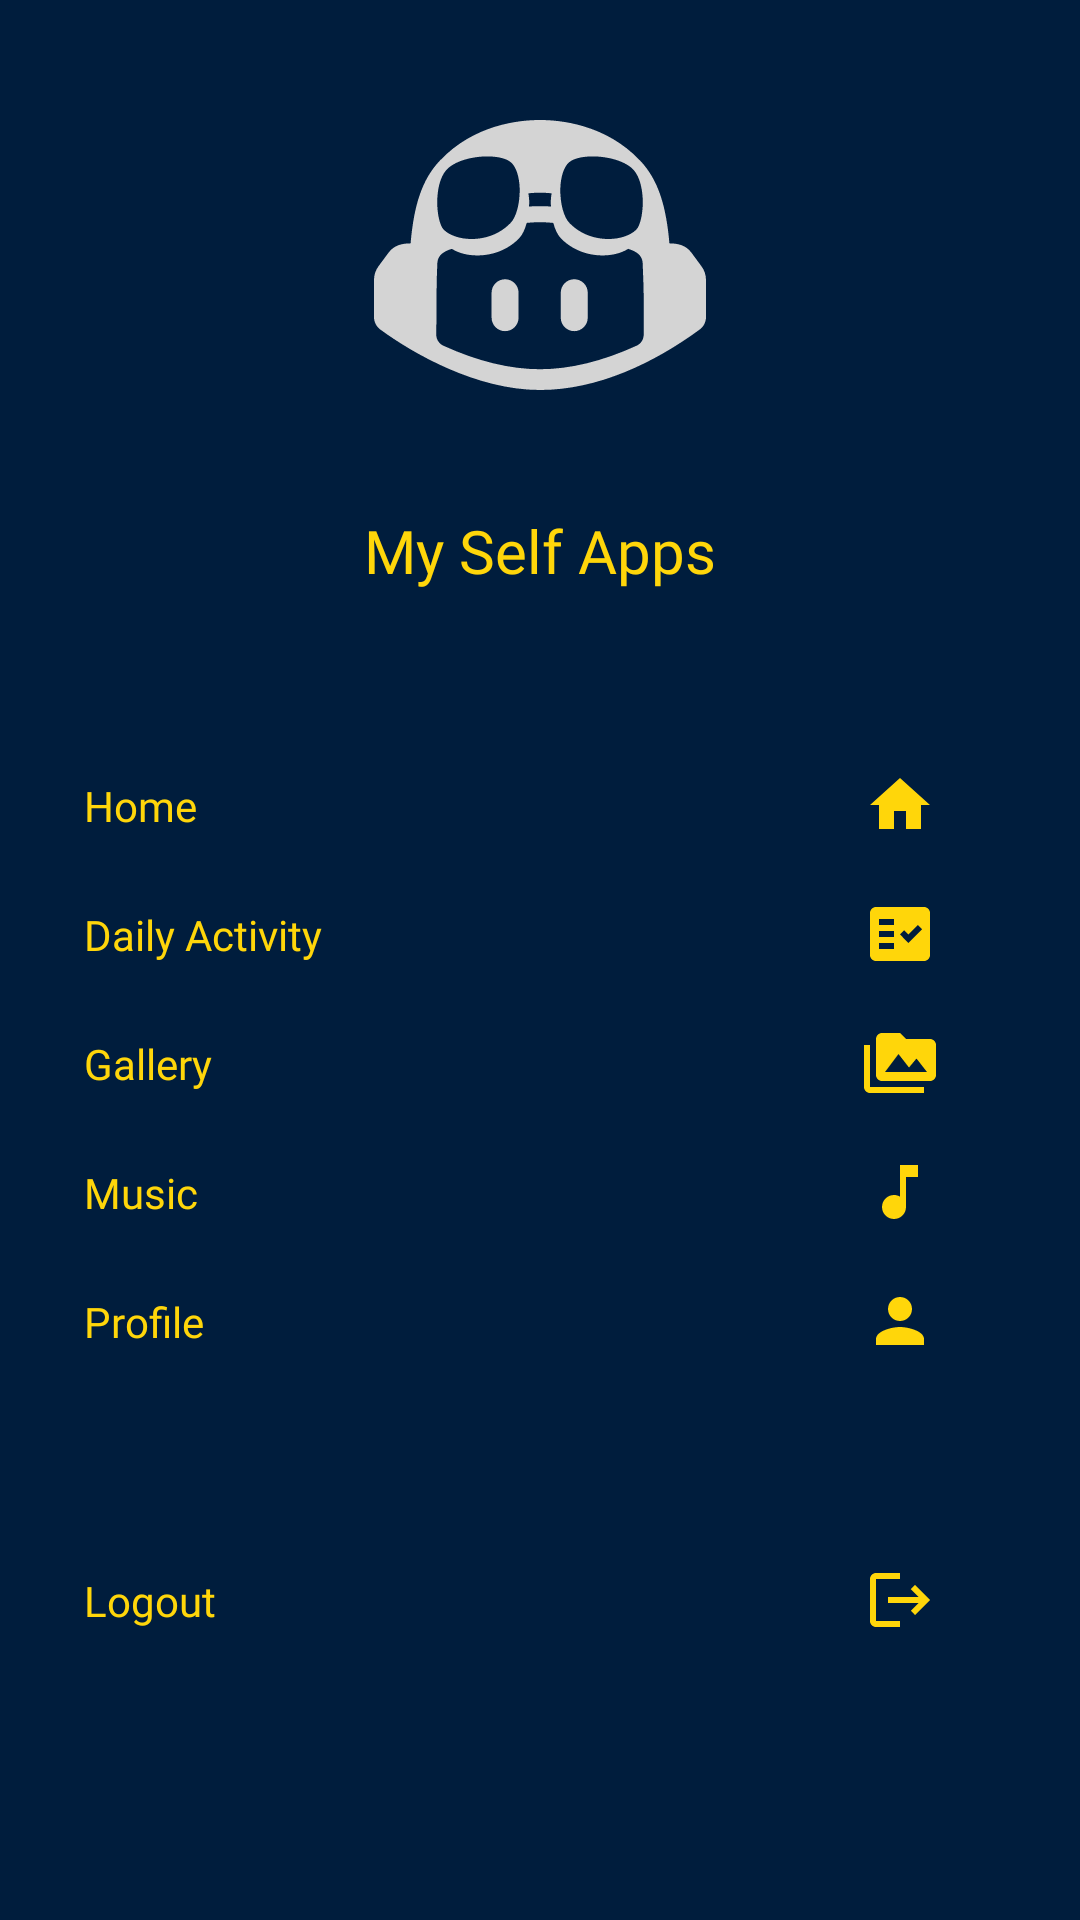

Screen size 1080px×1920px. Icon name, then its box in pixels as (left=x1, top=y1, right=x2, bottom=y2):
fact: (left=870, top=907, right=930, bottom=961)
media: (left=864, top=1033, right=936, bottom=1093)
